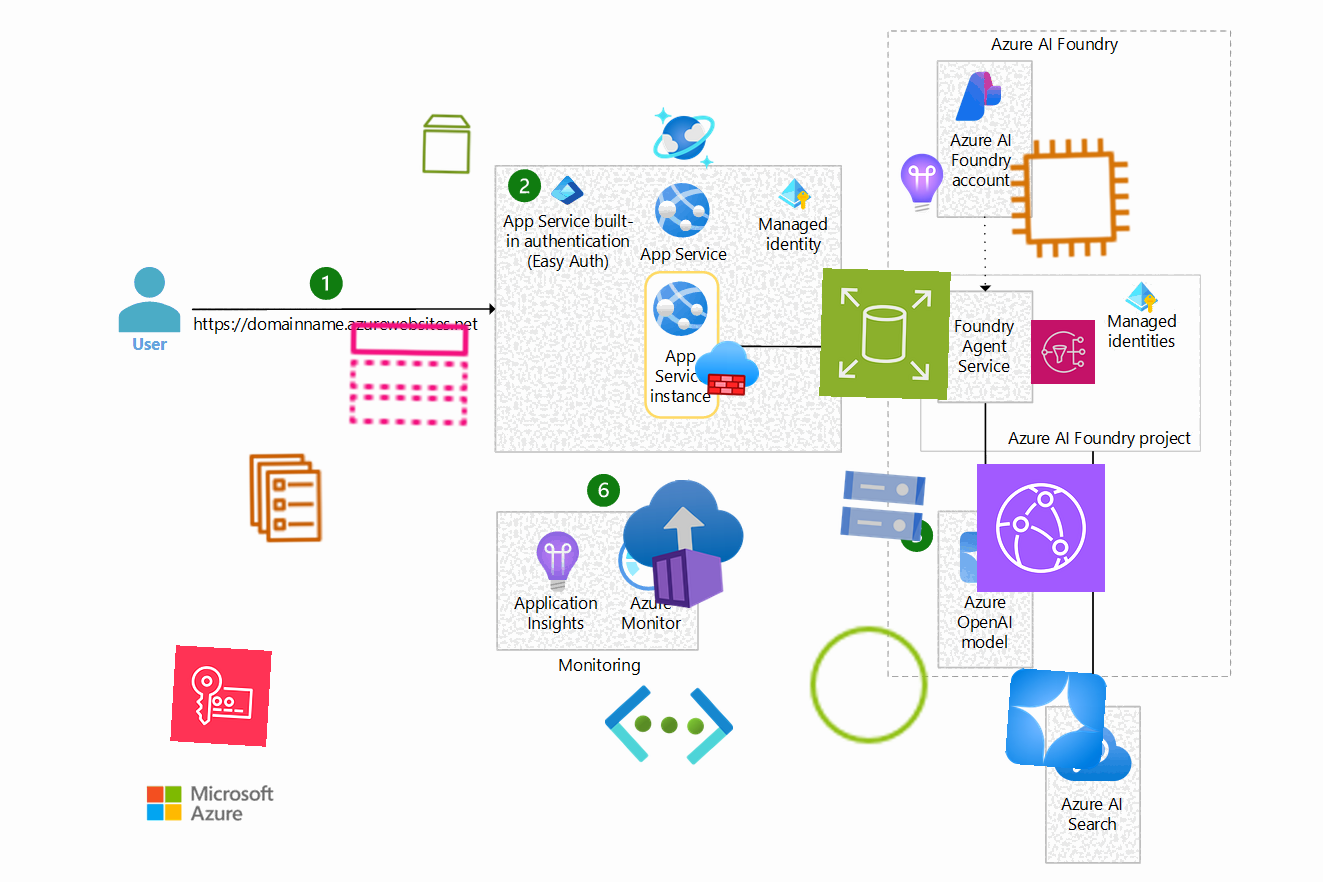aws_amazon_cloudfront: (976, 463, 1106, 593)
aws_amazon_elastic_block_store: (819, 268, 951, 400)
aws_amazon_simple_notification_service: (1030, 319, 1096, 385)
aws_ec2_instance: (1004, 132, 1136, 264)
aws_elastic_block_store_volume: (414, 111, 480, 177)
aws_elastic_container_service_service: (237, 449, 335, 547)
aws_key_management_service: (170, 645, 272, 747)
aws_simple_notification_service_topic: (343, 308, 475, 440)
aws_simple_storage_service_object: (804, 620, 934, 750)
azure_application_insights: (889, 151, 955, 217)
azure_container_instances: (615, 475, 753, 613)
azure_cosmos_db: (651, 105, 717, 171)
azure_firewalls: (693, 334, 761, 402)
azure_openai: (1004, 667, 1108, 771)
azure_virtual_networks: (602, 658, 736, 792)
gcp_cloud_storage: (831, 454, 935, 558)
